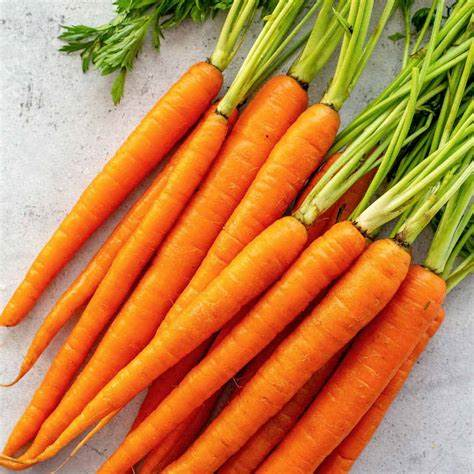Carrot: (123, 89, 441, 474), (13, 61, 257, 466), (172, 36, 386, 474)
